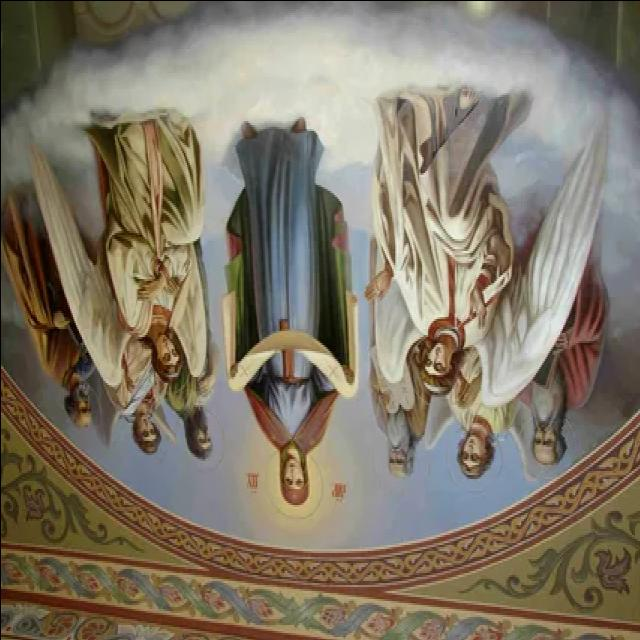mother of god: (216, 112, 362, 516)
